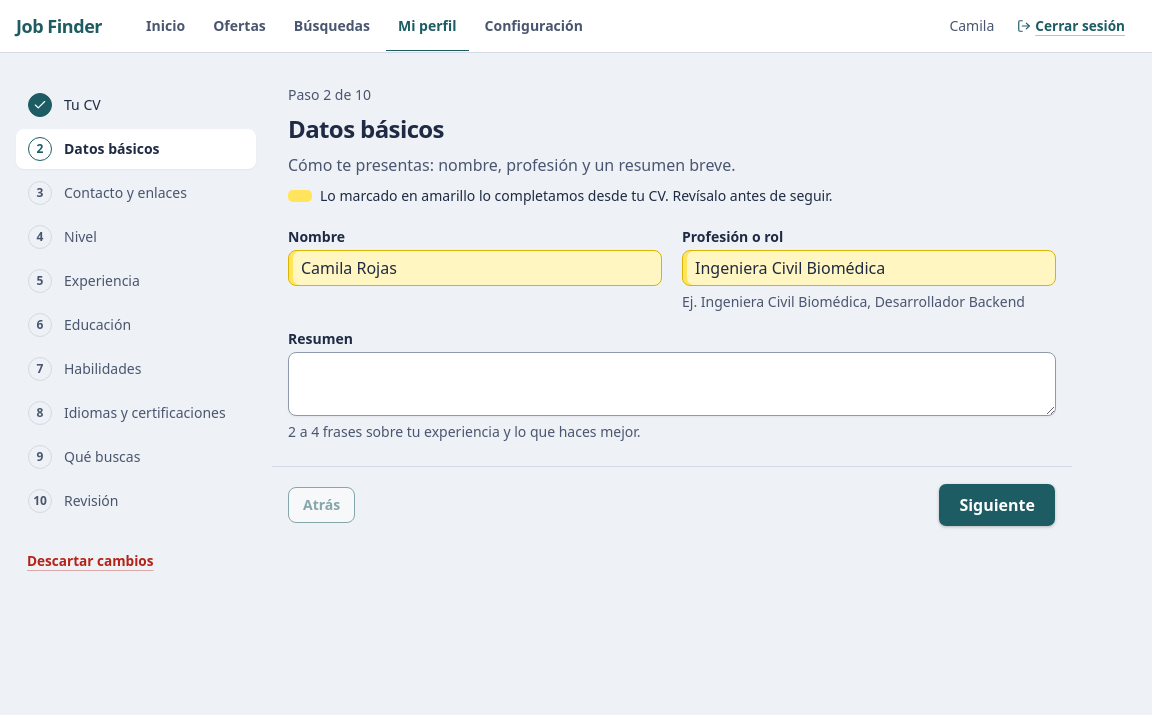
Test: Mi perfil: wizard › descartar los cambios pide confirmación
What coordinates should you click on to do the following:
click the button "Descartar cambios"
I would click on:
 (90, 561)
Its box is [16,545,164,577].
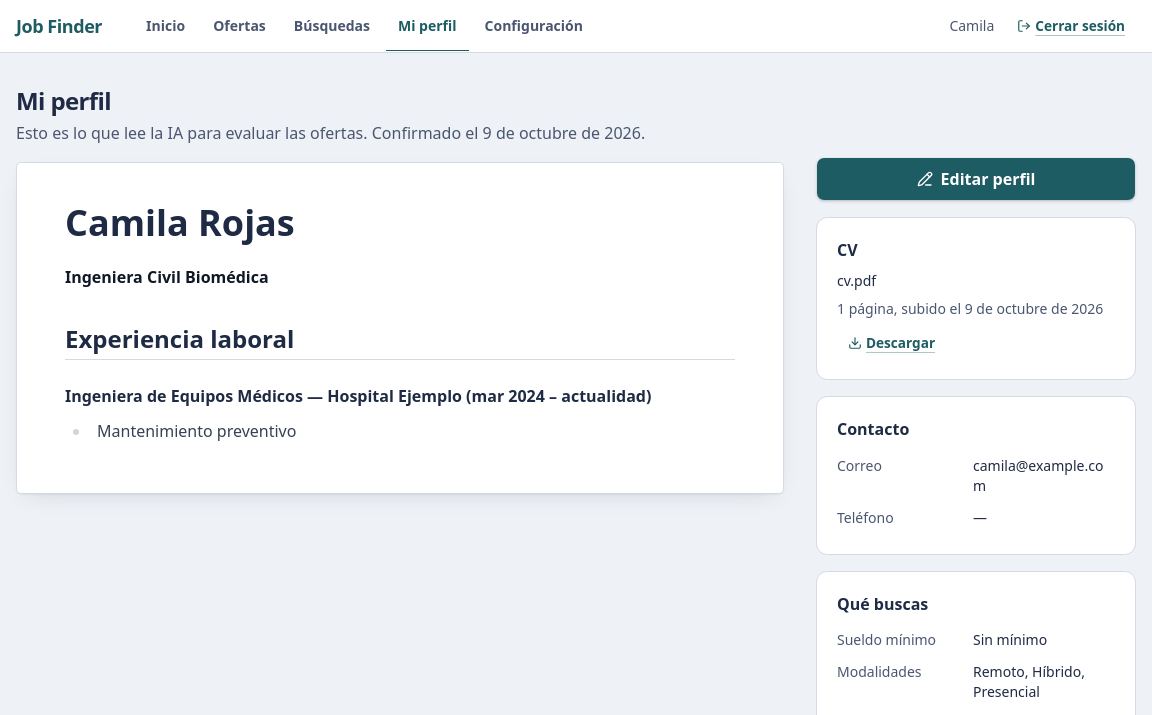
Result: the button "Editar perfil" is shown at [816,157,1136,201]
